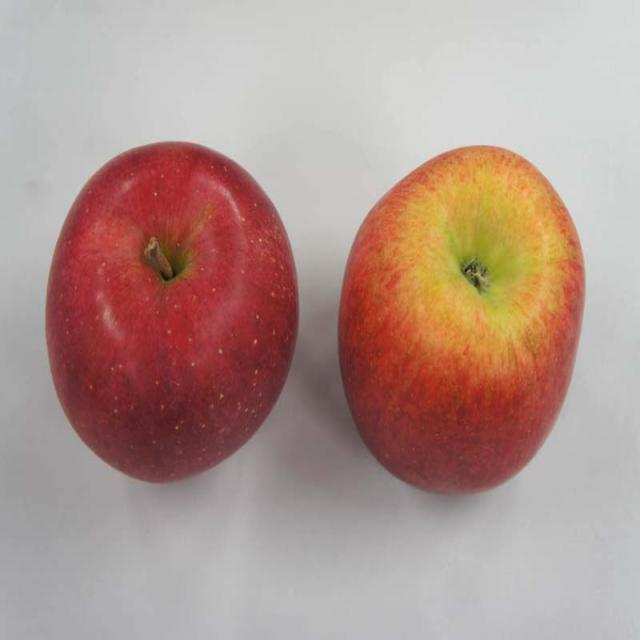Apple: (41, 136, 304, 487), (340, 138, 592, 500)
